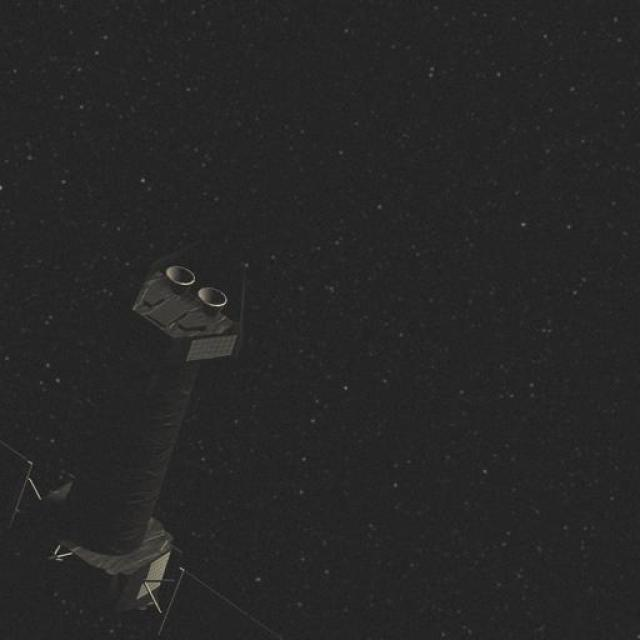xmm_newton: (0, 234, 286, 638)
